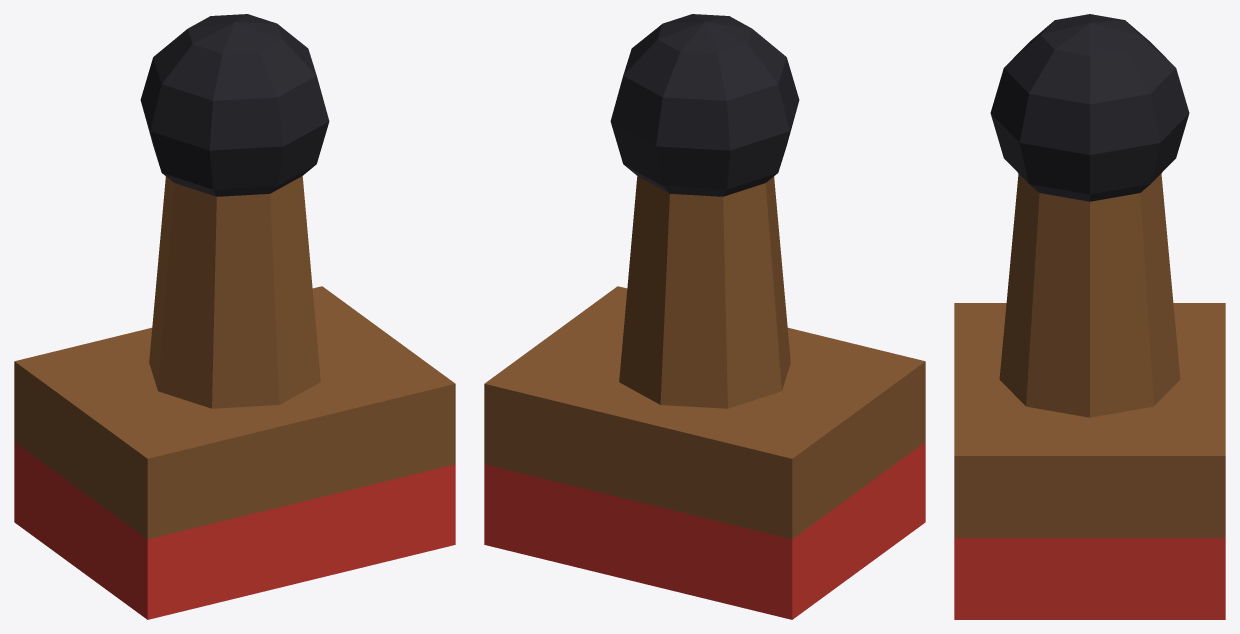
Rendered from karaoke_fake_stamp.glb.
3 renders of one model, left to right at view 1: azimuth 30°, elevation 25°; view 2: azimuth 150°, elevation 25°; view 3: azimuth 270°, elevation 25°, orthographic.
Parts seen in each view (by area): view 1: base_stamp_wood, rubber_stamp_red, handle_stamp_wood, knob_stamp_knob; view 2: base_stamp_wood, rubber_stamp_red, handle_stamp_wood, knob_stamp_knob; view 3: base_stamp_wood, handle_stamp_wood, knob_stamp_knob, rubber_stamp_red.
Part boxes in pixels (x1,y1,x2,y2): base_stamp_wood: (14,286,455,539); rubber_stamp_red: (14,442,455,619); handle_stamp_wood: (149,176,320,408); knob_stamp_knob: (140,14,329,196); base_stamp_wood: (484,286,925,539); rubber_stamp_red: (484,442,925,619); handle_stamp_wood: (619,176,790,408); knob_stamp_knob: (610,14,799,196); base_stamp_wood: (954,303,1225,537); handle_stamp_wood: (999,173,1180,417); knob_stamp_knob: (990,14,1189,201); rubber_stamp_red: (954,538,1225,619).
Bounding box in the file's own units: 0.08 × 0.127 × 0.06.
